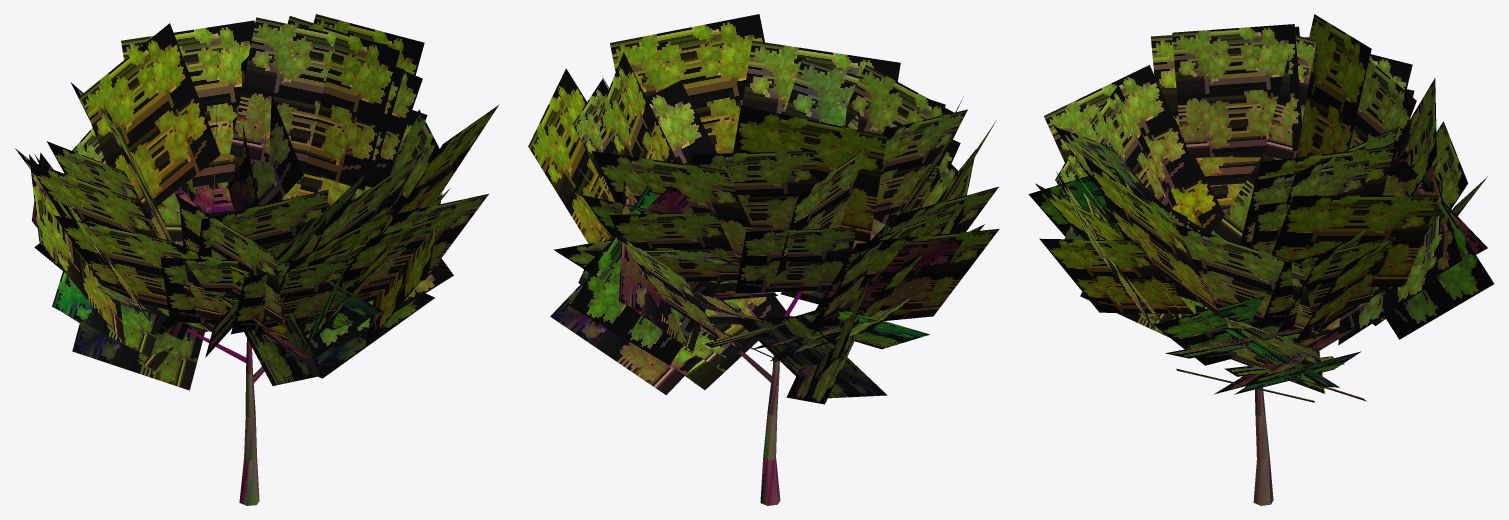
Rendered from tree-maple-lo.glb.
3 renders of one model, left to right at view 1: azimuth 30°, elevation 25°; view 2: azimuth 150°, elevation 25°; view 3: azimuth 270°, elevation 25°, orthographic.
Visible parts, largest first — view 1: lo-leaf, lo-bark; view 2: lo-leaf, lo-bark; view 3: lo-leaf, lo-bark.
Part boxes in pixels (x1,y1,x2,y2): lo-leaf: (15, 14, 498, 390); lo-bark: (187, 328, 264, 505); lo-leaf: (528, 14, 999, 404); lo-bark: (739, 291, 803, 505); lo-leaf: (1028, 14, 1494, 402); lo-bark: (1253, 360, 1273, 505).
Size of the model in its own units: 12.99 by 12.96 by 12.41.
2 materials, 2 textured.
